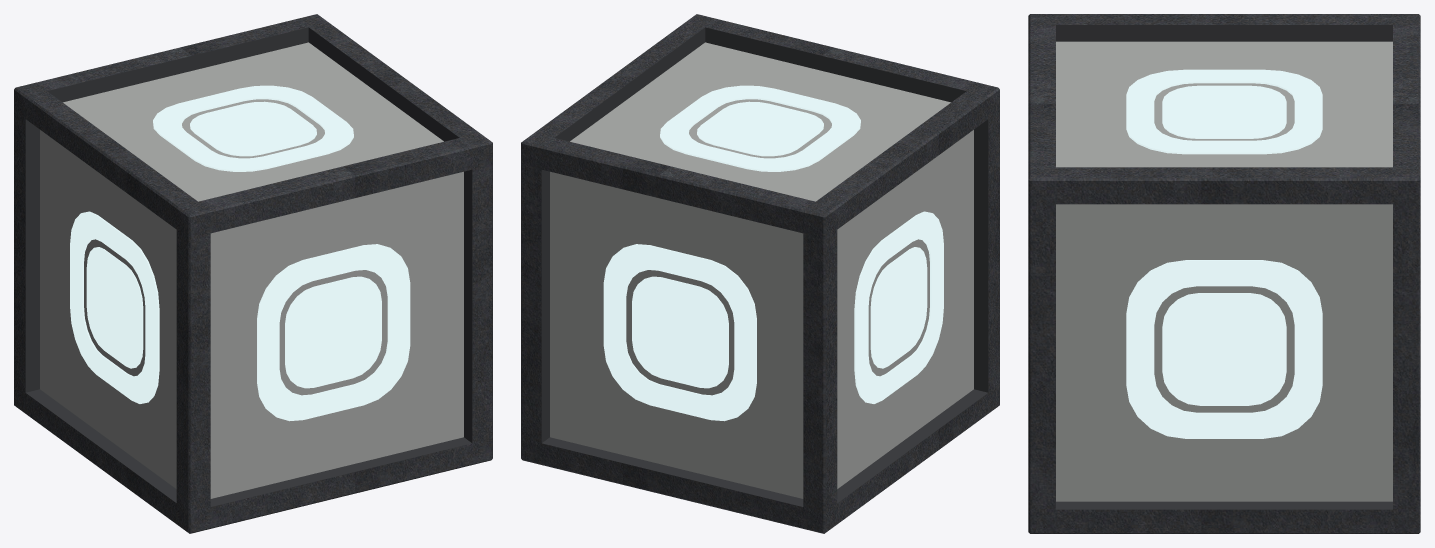
File: prop_cube.glb
The picture shows the model from 3 angles, left to right: view 1: azimuth 30°, elevation 25°; view 2: azimuth 150°, elevation 25°; view 3: azimuth 270°, elevation 25°; orthographic projection. The views are drawn at different scales.
Visible parts, largest first — view 1: Cube2; view 2: Cube2; view 3: Cube2.
Boxes of the visible parts, bbox=[...] form: Cube2: bbox=[14, 14, 492, 533]; Cube2: bbox=[521, 14, 999, 533]; Cube2: bbox=[1028, 14, 1420, 533].
Bounding box in the file's own units: 1 × 1 × 1.
Materials: 3 (2 with a texture image).
